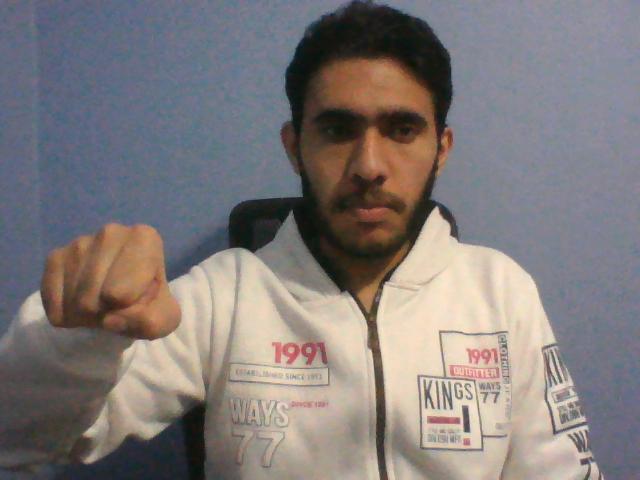yes: (35, 216, 187, 358)
